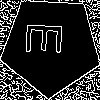E: (25, 20, 72, 57)
